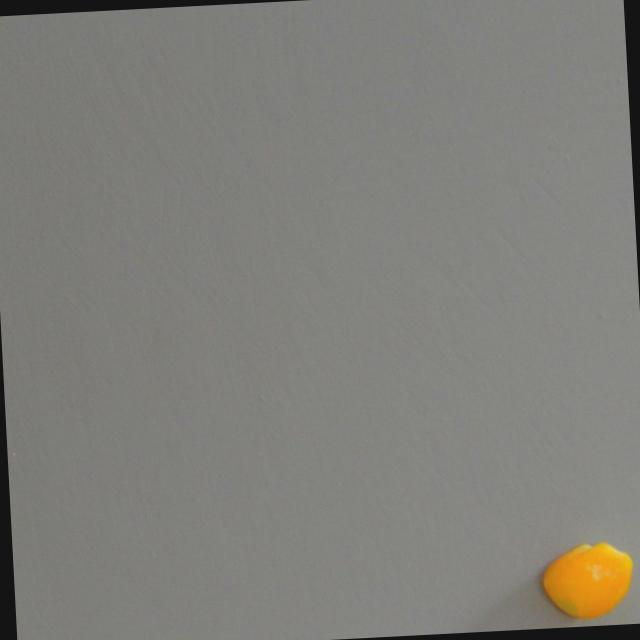no_canjicado: (539, 539, 636, 622)
